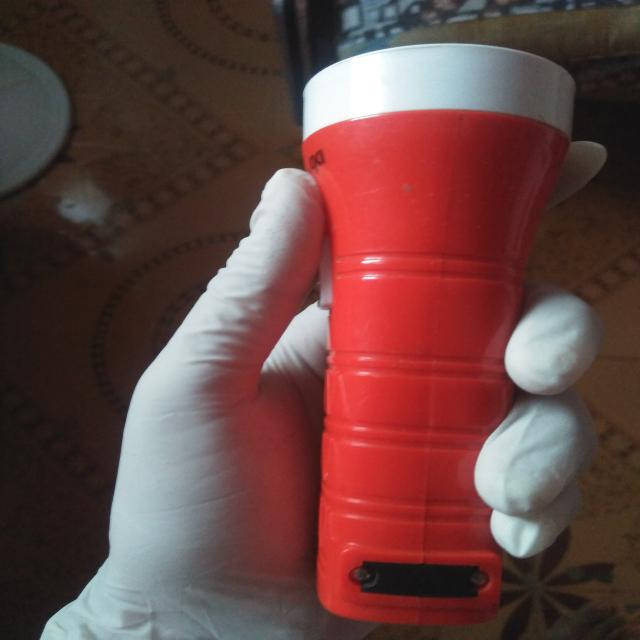glove: (30, 117, 606, 639)
